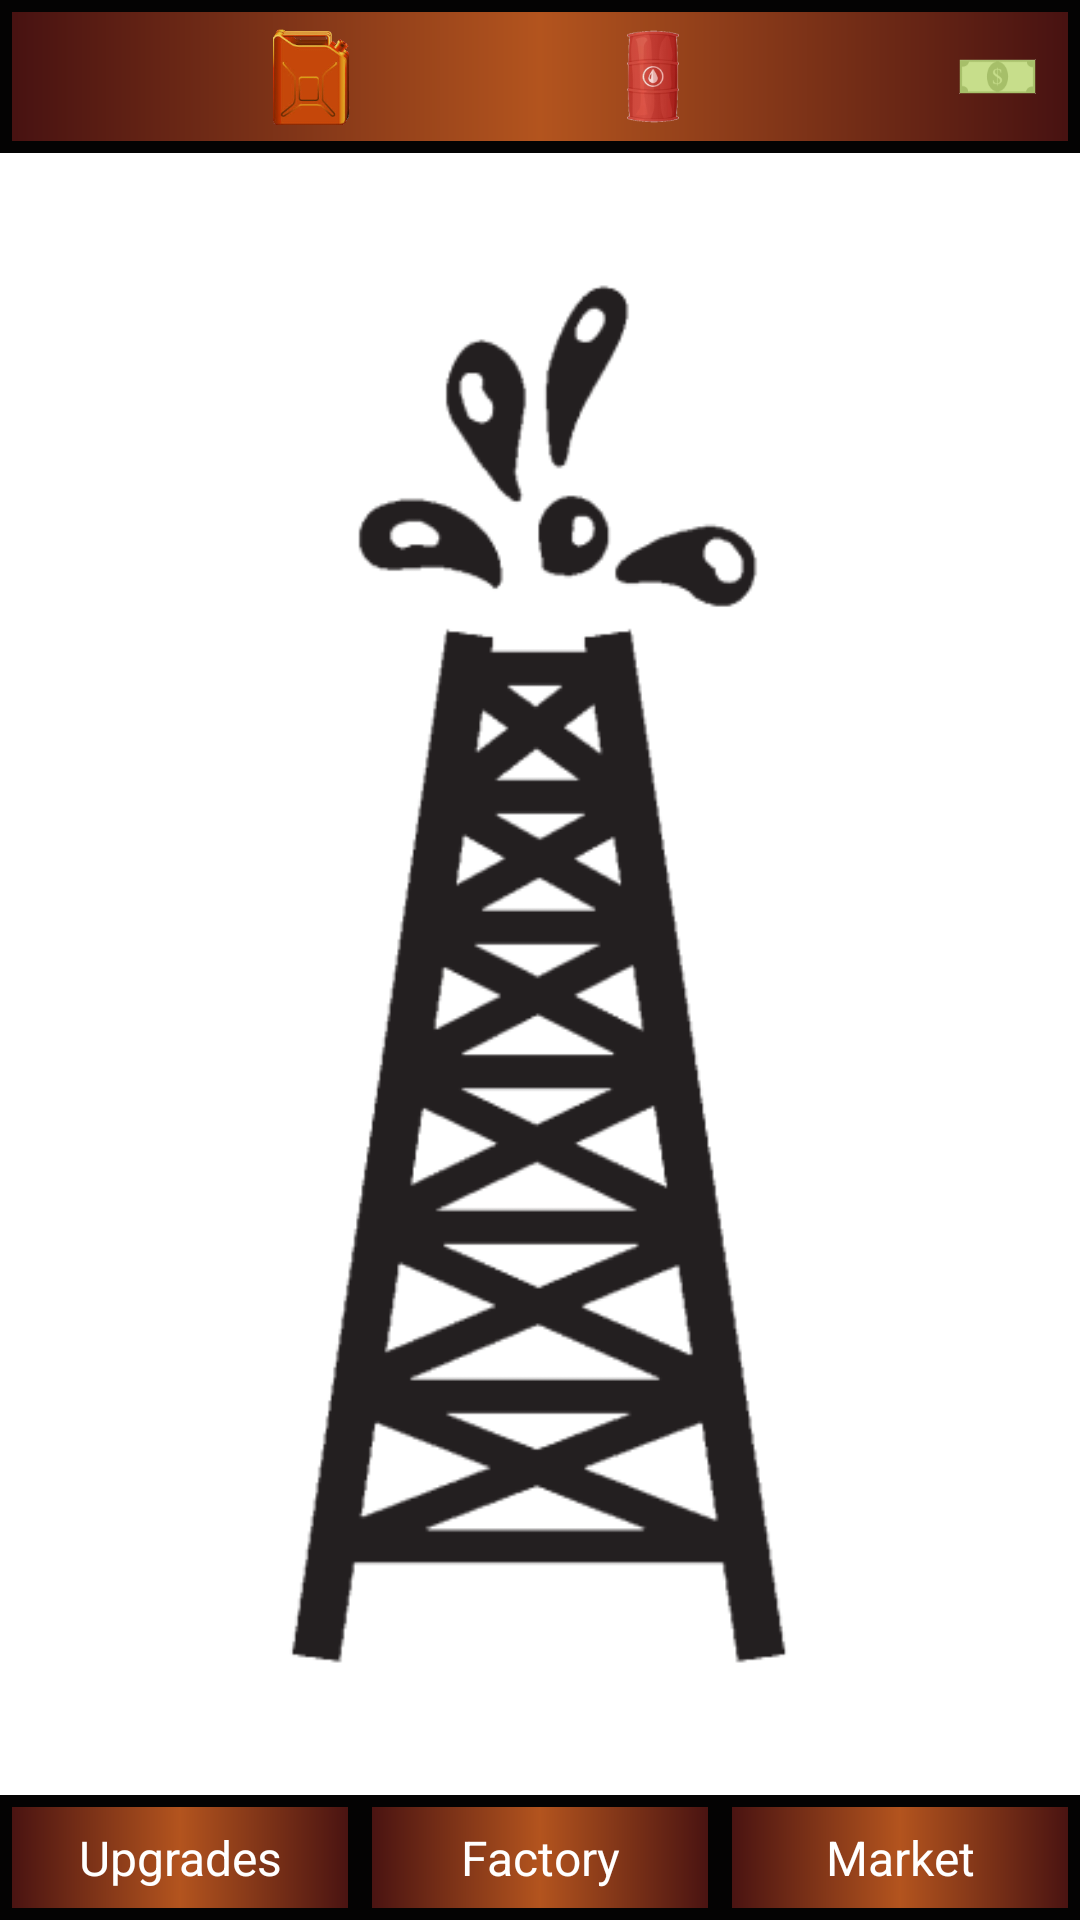

Named icons in this screenshot (1080x1920) and their centers, [x,y]:
cash: [997,76]
gas: [311,77]
oil barrel: [653,76]
